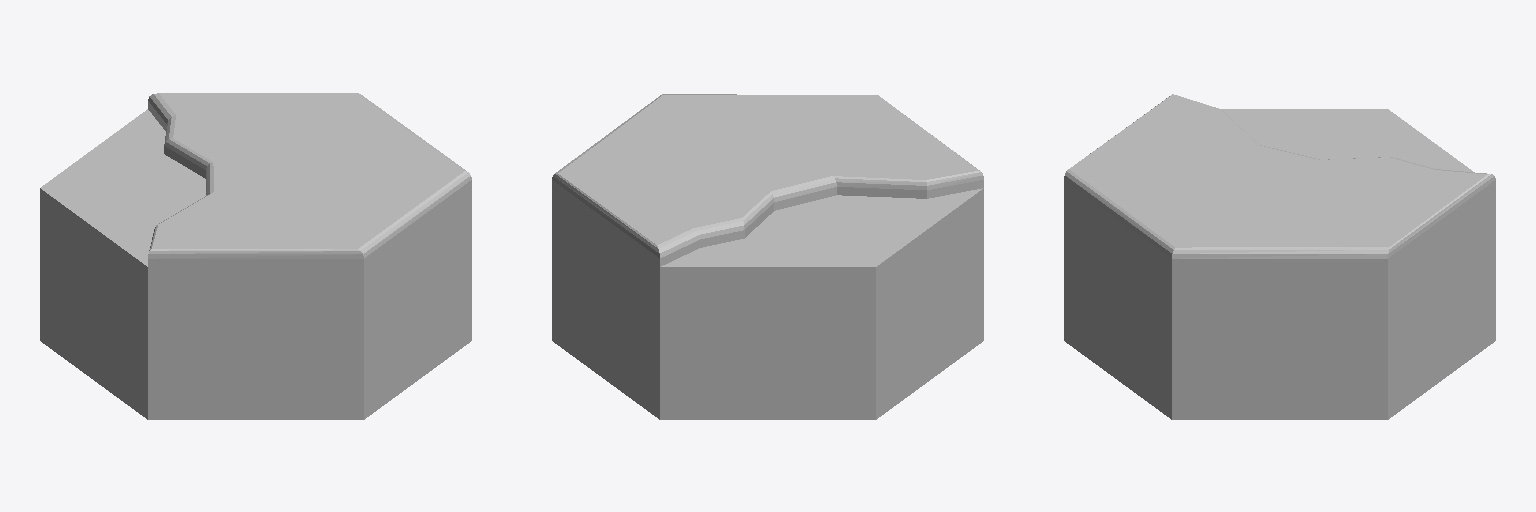
File: hex_forest_waterD.obj
The picture shows the model from 3 angles: view 1: azimuth 30°, elevation 25°; view 2: azimuth 150°, elevation 25°; view 3: azimuth 270°, elevation 25°; orthographic projection.
Parts seen in each view (by area): view 1: hex_forest_waterD_Cylinder.503; view 2: hex_forest_waterD_Cylinder.503; view 3: hex_forest_waterD_Cylinder.503.
Part boxes in pixels (x1,y1,x2,y2): hex_forest_waterD_Cylinder.503: (40, 93, 471, 419); hex_forest_waterD_Cylinder.503: (552, 94, 983, 419); hex_forest_waterD_Cylinder.503: (1064, 94, 1495, 419).
Bounding box in the file's own units: 2 × 1 × 2.31.